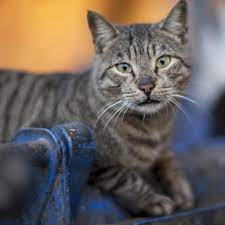cat: (1, 1, 196, 215)
